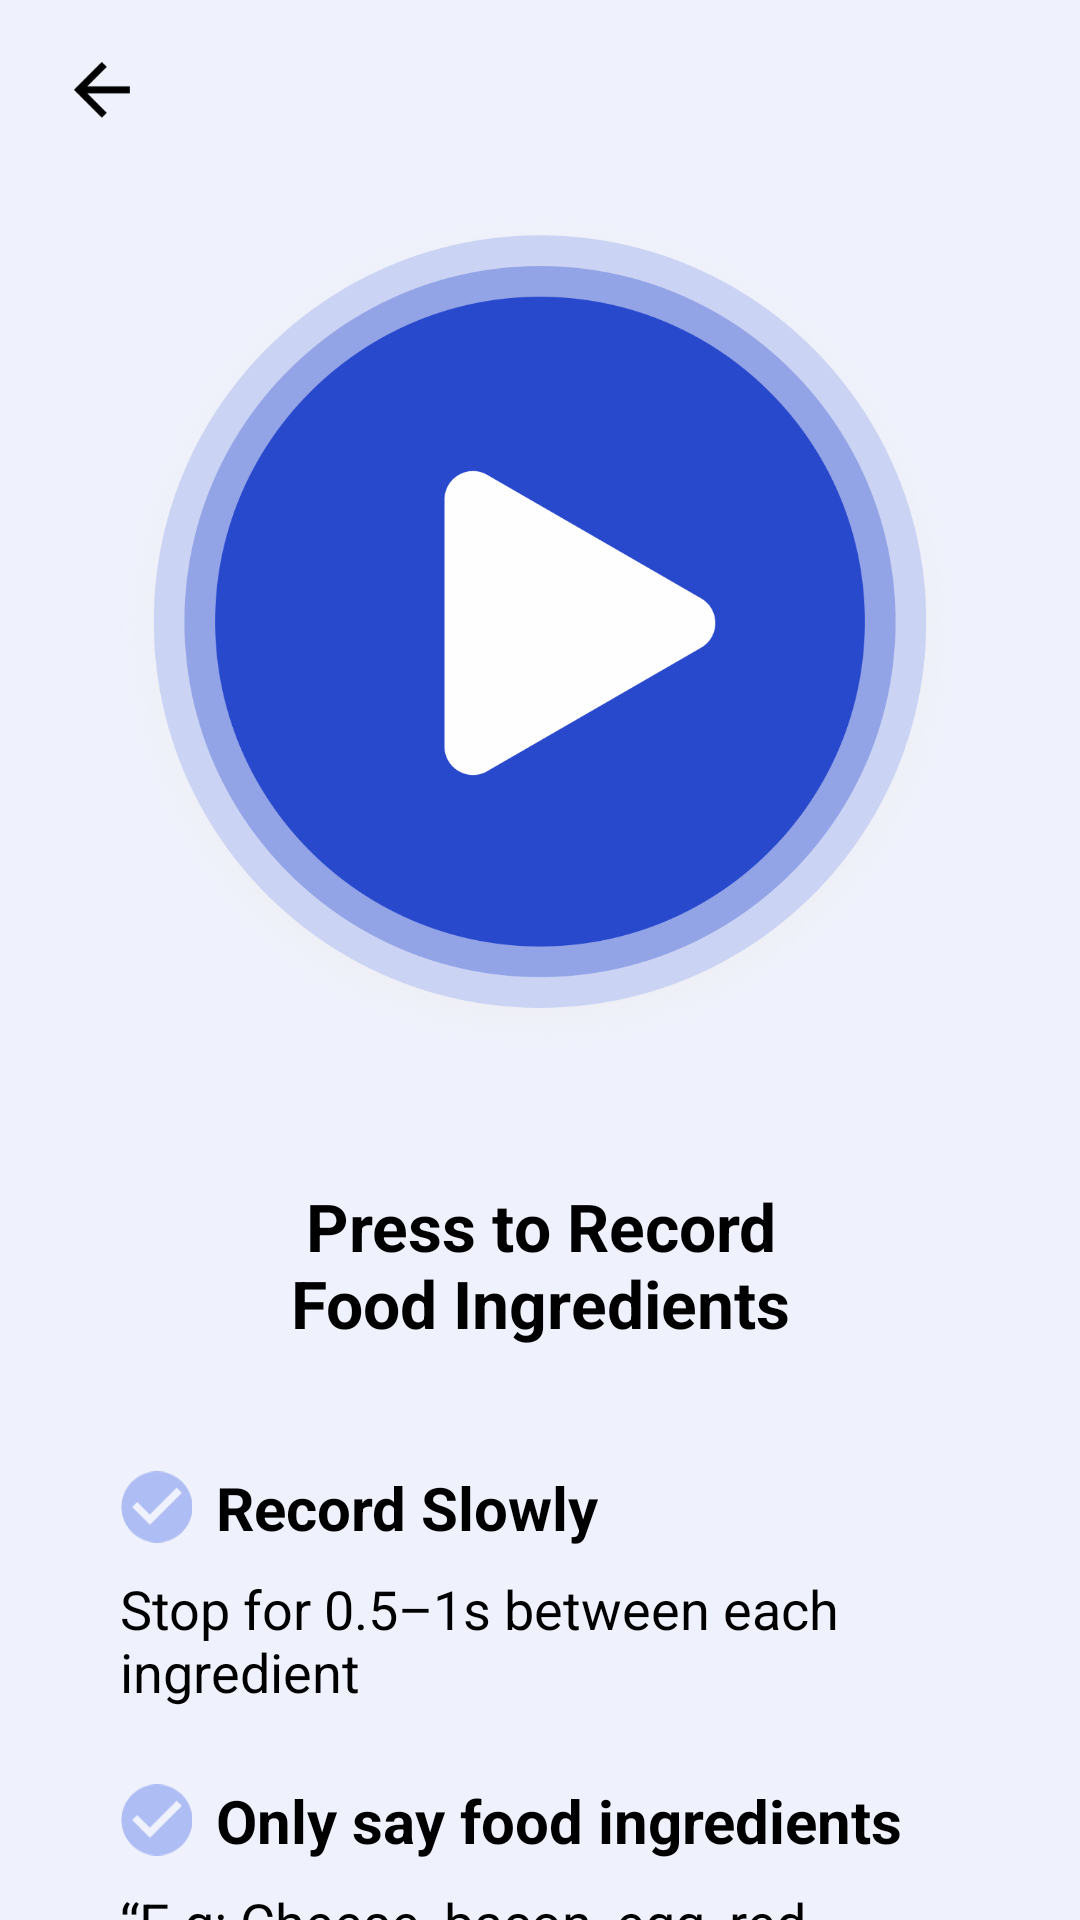

Named icons in this screenshot (1080px×1920px) and their centers, (x=x, y=y):
back: (x=102, y=90)
onboarding checkmark: (x=156, y=1507), (x=156, y=1820)
